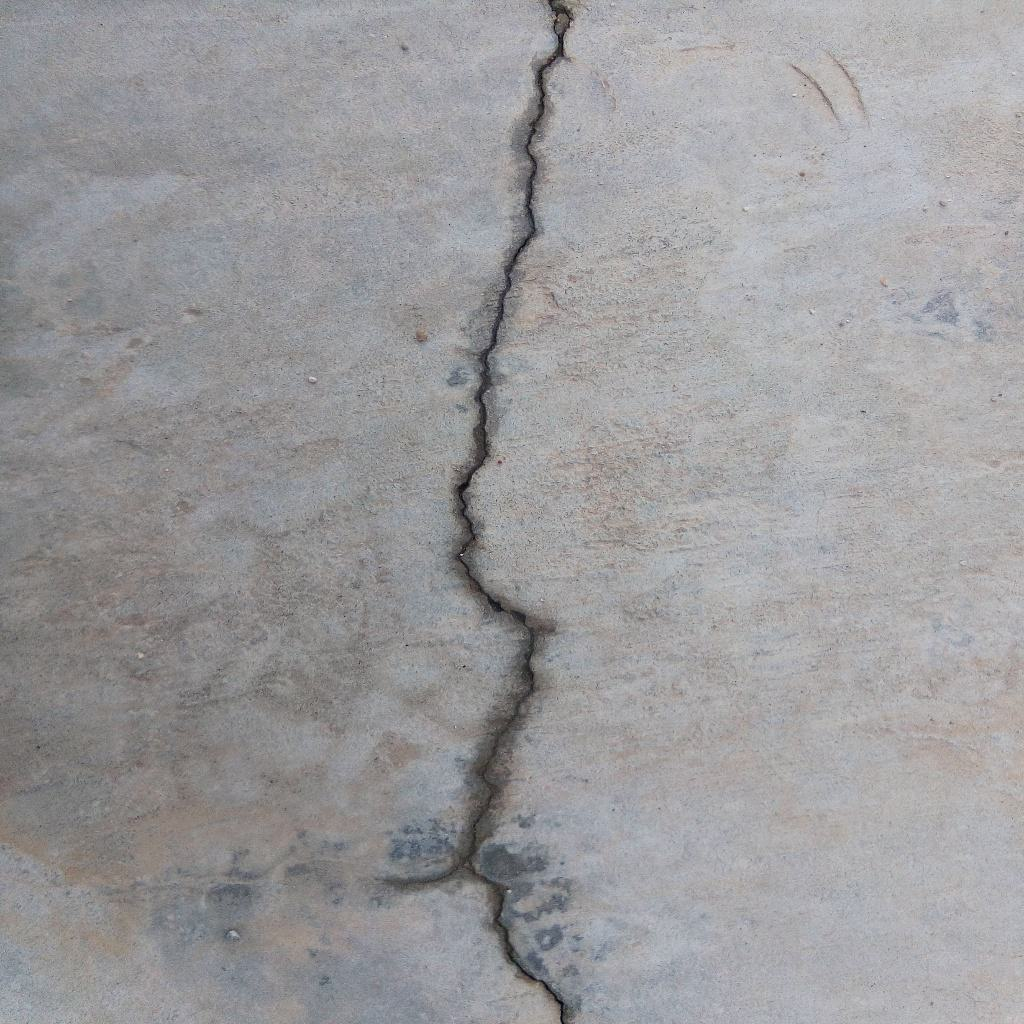Crack: (453, 1, 574, 1024)
